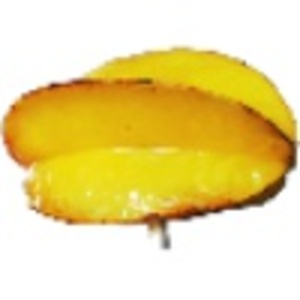carambola: (1, 44, 300, 244)
